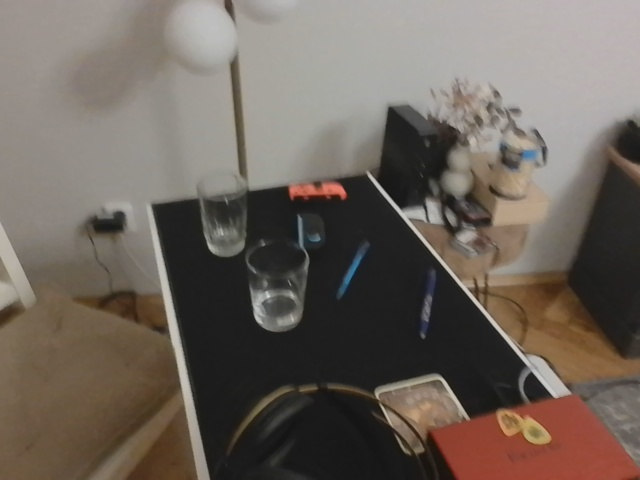glass: (243, 235, 310, 333), (191, 169, 252, 259)
joycon: (291, 207, 329, 254), (285, 178, 348, 204)
pen: (333, 238, 370, 307), (418, 268, 438, 341)
